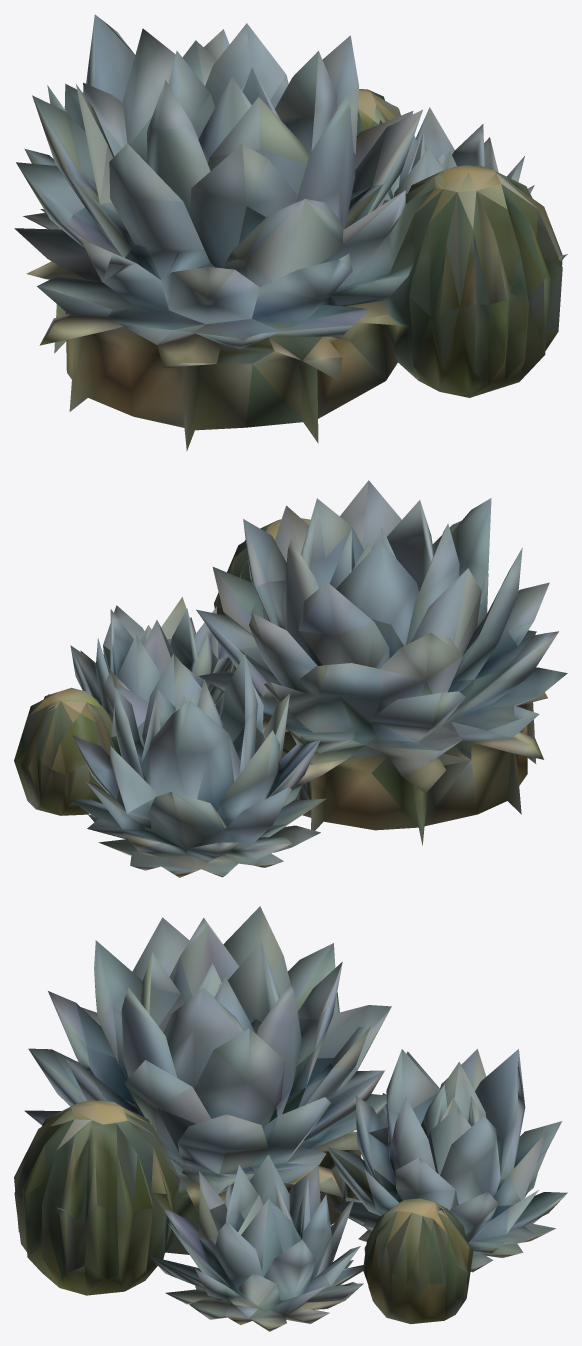
File: agave_cluster.glb
3 renders of one model, top to bottom at view 1: azimuth 30°, elevation 25°; view 2: azimuth 150°, elevation 25°; view 3: azimuth 270°, elevation 25°, orthographic. The views are drawn at different scales.
Visible parts, largest first — view 1: LO.001; view 2: LO.001; view 3: LO.001.
Part boxes in pixels (x1,y1,x2,y2): LO.001: [14, 14, 567, 451]; LO.001: [14, 480, 567, 877]; LO.001: [14, 906, 567, 1331].
Bounding box in the file's own units: 1.84 × 1.07 × 1.99.
Materials: 1 (1 with a texture image).
